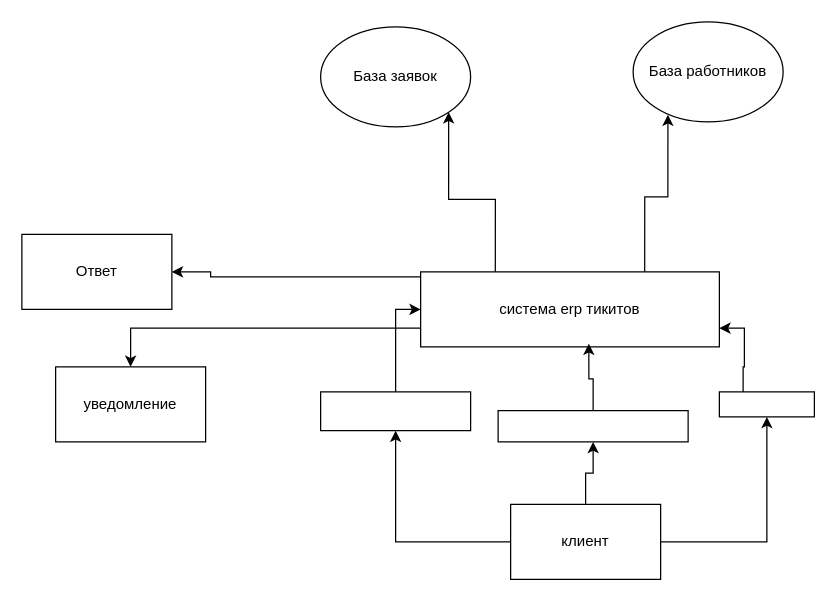
The diagram is 836 pixels wide and 601 high, and some of its shapes have lost their labels. Here are the shapes that lost their labels. From the top down, the box of each, then its label:
(319, 391, 471, 431): Запрос на авторизацию
(718, 391, 814, 417): статус
(497, 409, 688, 442): Заявка от работника
